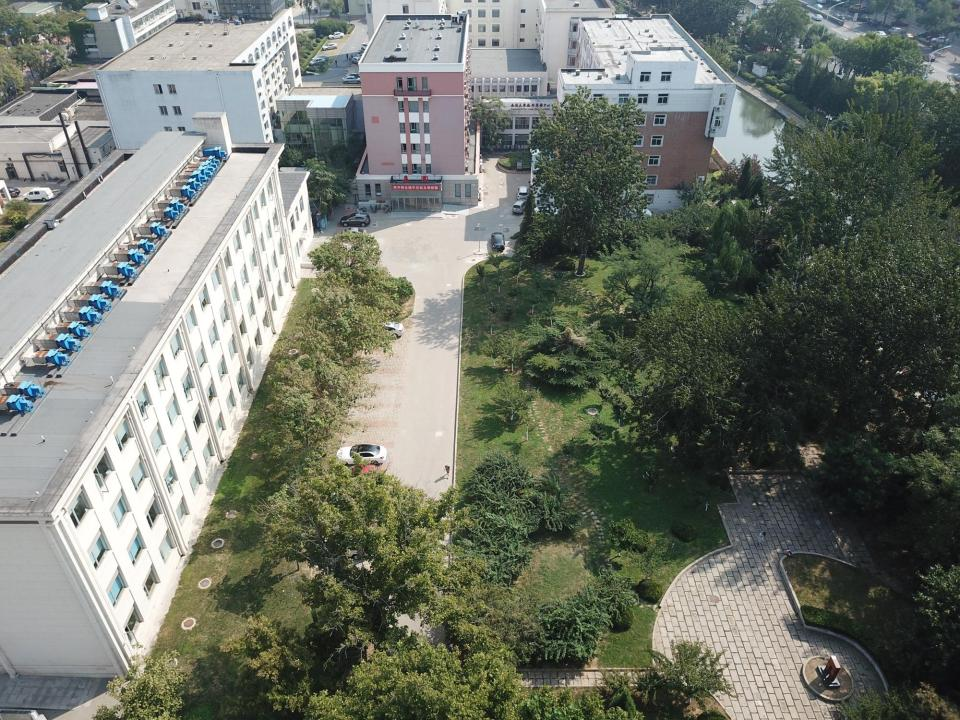car: (314, 535, 370, 560), (331, 465, 382, 486), (335, 444, 387, 464), (366, 322, 404, 338), (340, 213, 370, 227), (339, 228, 368, 240), (532, 206, 561, 217), (491, 232, 505, 250), (0, 186, 20, 198), (917, 29, 943, 38), (517, 186, 529, 201), (932, 36, 952, 45), (926, 33, 948, 41), (346, 72, 365, 80), (342, 76, 363, 83), (309, 58, 326, 66), (855, 7, 874, 14), (311, 55, 329, 62), (351, 56, 363, 66), (321, 43, 338, 50), (360, 43, 374, 51), (328, 32, 344, 39), (891, 20, 909, 26), (356, 54, 373, 60), (873, 31, 887, 38), (358, 50, 374, 56), (900, 33, 913, 40), (866, 19, 879, 26), (922, 54, 935, 61), (849, 4, 864, 10), (830, 13, 842, 20), (857, 15, 868, 22), (812, 3, 823, 10), (812, 14, 822, 20), (816, 0, 827, 4)
van: (23, 187, 53, 202), (512, 199, 528, 214), (887, 26, 901, 36), (314, 3, 322, 11), (762, 0, 772, 5)
